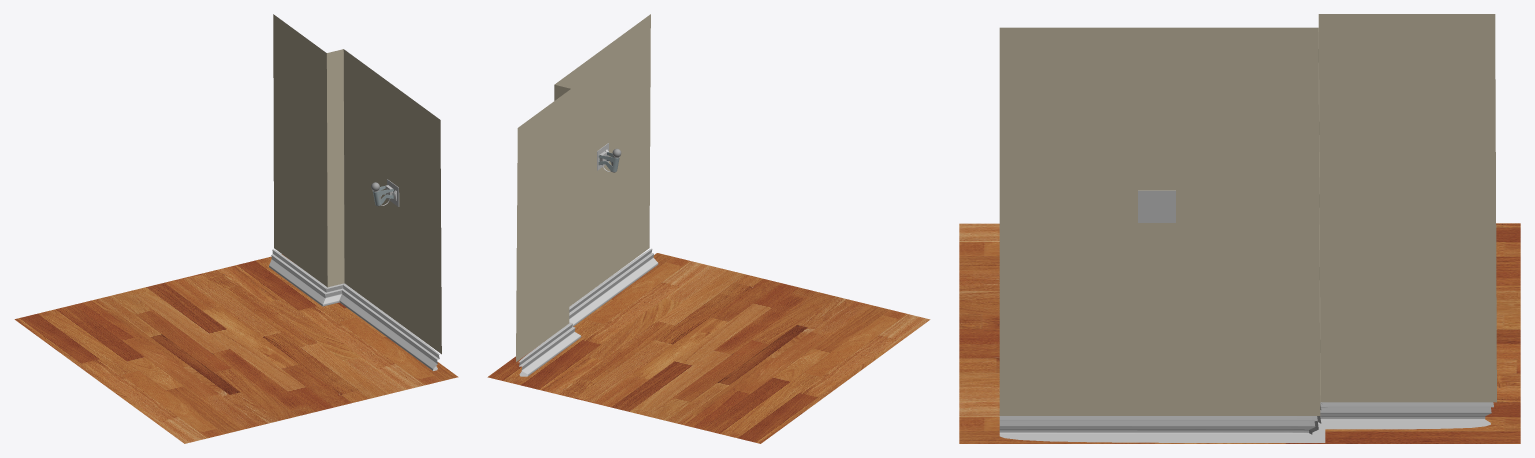
The model's file is lampe_design.obj.
3 renders of one model, left to right at view 1: azimuth 30°, elevation 25°; view 2: azimuth 150°, elevation 25°; view 3: azimuth 270°, elevation 25°, orthographic. The views are drawn at different scales.
Visible parts, largest first — view 1: Plane.008, Plane.007, Plane.009; view 2: Plane.008, Plane.007, Plane.009; view 3: Plane.007, Plane.008, Plane.009, Sphere.001_Sphere.
Boxes of the visible parts, left/top/right/bottom form: Plane.008: left=14, top=254, right=458, bottom=443; Plane.007: left=273, top=14, right=441, bottom=354; Plane.009: left=269, top=249, right=439, bottom=370; Plane.008: left=487, top=253, right=930, bottom=443; Plane.007: left=516, top=14, right=650, bottom=361; Plane.009: left=518, top=248, right=658, bottom=376; Plane.007: left=999, top=14, right=1496, bottom=415; Plane.008: left=959, top=223, right=1520, bottom=443; Plane.009: left=999, top=402, right=1493, bottom=442; Sphere.001_Sphere: left=1138, top=190, right=1175, bottom=222.
Size of the model in its own units: 28.51 by 24.86 by 30.68.
